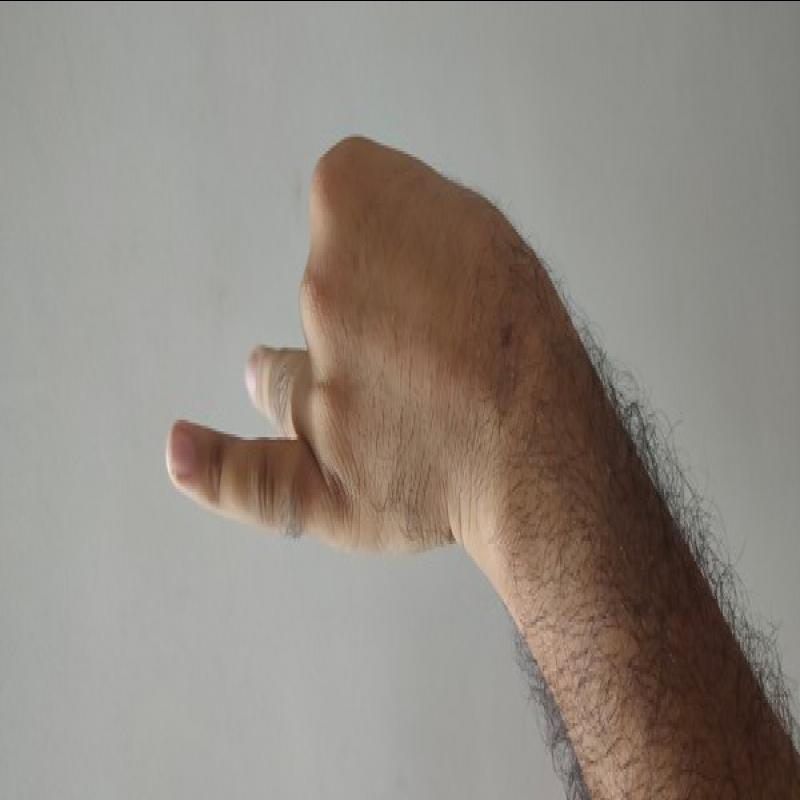Katakam: (134, 106, 496, 589)
